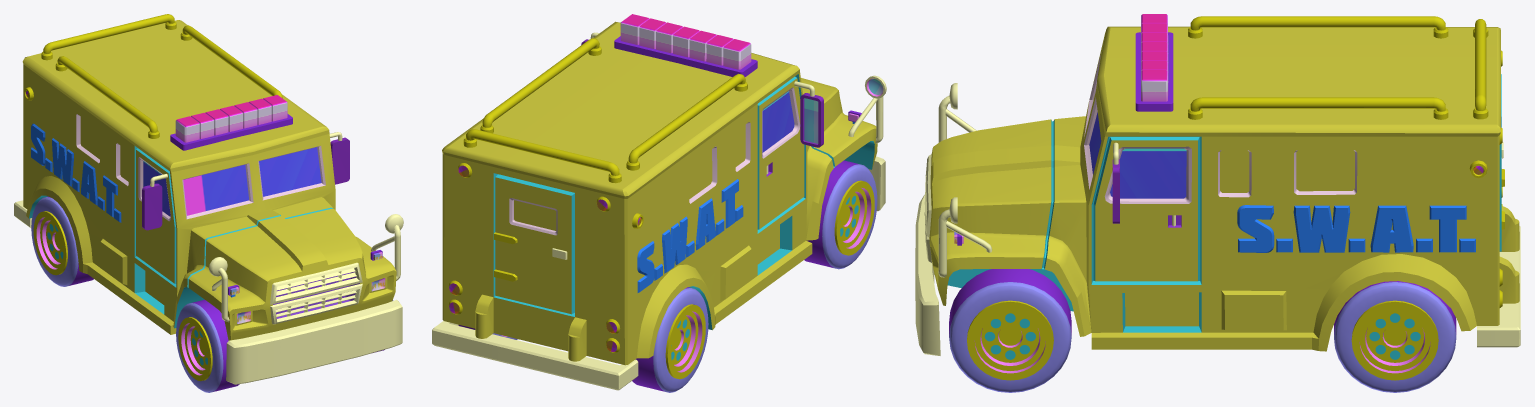
The model's file is SWATCar_GRP.fbx.
3 renders of one model, left to right at view 1: azimuth 30°, elevation 25°; view 2: azimuth 150°, elevation 25°; view 3: azimuth 270°, elevation 25°, orthographic. The views are drawn at different scales.
Parts seen in each view (by area): view 1: SWATCar_mesh, SWATCar_Wheel_FR_mesh, SWATCar_Wheel_BR_mesh; view 2: SWATCar_mesh, SWATCar_Wheel_FR_mesh, SWATCar_Wheel_BR_mesh; view 3: SWATCar_mesh, SWATCar_Wheel_FL_mesh, SWATCar_Wheel_BL_mesh.
Part boxes in pixels (bbox=[...]): SWATCar_mesh: bbox=[14, 14, 403, 384]; SWATCar_Wheel_FR_mesh: bbox=[176, 299, 239, 392]; SWATCar_Wheel_BR_mesh: bbox=[31, 196, 93, 286]; SWATCar_mesh: bbox=[432, 14, 886, 390]; SWATCar_Wheel_FR_mesh: bbox=[804, 160, 877, 269]; SWATCar_Wheel_BR_mesh: bbox=[632, 287, 708, 392]; SWATCar_mesh: bbox=[915, 14, 1520, 355]; SWATCar_Wheel_FL_mesh: bbox=[949, 269, 1071, 392]; SWATCar_Wheel_BL_mesh: bbox=[1334, 281, 1456, 392].
Size of the model in its own units: 1.88 by 1.92 by 3.61.
